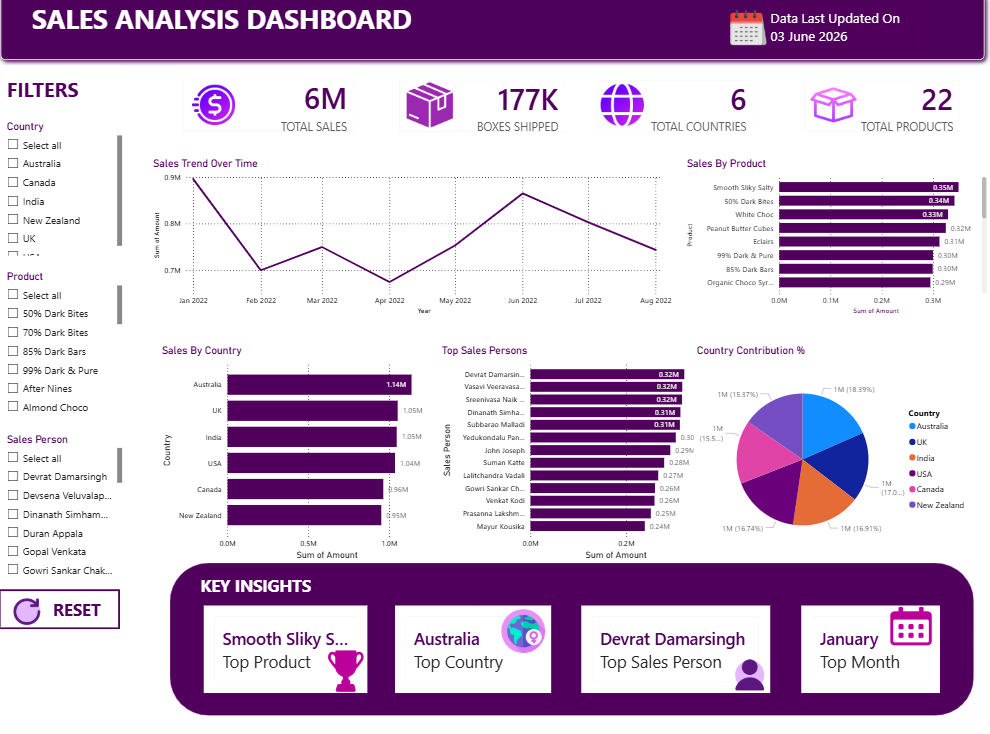

The dashboard page shown, as its layout file describes it:
{"tool":"powerbi","page":{"name":"Page 1","canvas":[1600,1200],"ordinal":0},"visuals":[{"type":"shape","box":[0,0,1600.5,124.7],"z":0},{"type":"textbox","box":[1242.6,28.2,255.4,70.4],"z":1000},{"type":"cardVisual","fields":{"Data":["Sum(data.Boxes Shipped)"]},"box":[629.4,126.7,309.7,126.7],"z":2000},{"type":"cardVisual","fields":{"Data":["Count(data.Country)"]},"box":[947.1,126.7,295.6,126.7],"z":3000},{"type":"cardVisual","fields":{"Data":["Count(data.Product)"]},"box":[1280.8,126.7,293.6,126.7],"z":4000},{"type":"cardVisual","fields":{"Data":["Sum(data.Amount)"]},"box":[281.5,124.7,317.7,128.7],"z":5000},{"type":"lineChart","title":"Sales Trend Over Time ","fields":{"Y":["Sum(data.Amount)"],"Category":["data.Date.Variation.Date Hierarchy.Year","data.Date.Variation.Date Hierarchy.Month"]},"box":[249.3,271.4,844.5,259.4],"z":6000},{"type":"clusteredBarChart","title":"Sales By Country","fields":{"Category":["data.Country"],"Y":["Sum(data.Amount)"]},"box":[263.4,573.1,450.4,351.9],"z":8000},{"type":"clusteredBarChart","title":"Top Sales Persons","fields":{"Category":["data.Sales Person"],"Y":["Sum(data.Amount)"]},"box":[713.8,573.1,450.4,351.9],"z":9000},{"type":"shape","box":[0,124.7,209.1,1075.7],"z":10000},{"type":"textbox","box":[14.1,136.7,195,52.3],"z":11000},{"type":"listSlicer","fields":{"Values":["data.Country"]},"box":[14.1,213.1,195,223.2],"z":12000},{"type":"listSlicer","fields":{"Values":["data.Product"]},"box":[14.1,454.4,195,237.3],"z":13000},{"type":"listSlicer","fields":{"Values":["data.Sales Person"]},"box":[14.1,715.8,195,239.3],"z":14000},{"type":"pieChart","title":"Country Contribution %","fields":{"Category":["data.Country"],"Y":["Sum(data.Amount)"]},"box":[1124,573.1,450.4,351.9],"z":15000},{"type":"shape","box":[281.5,924.9,1292.9,245.3],"z":15001},{"type":"cardVisual","fields":{"Data":["data.Top Product"]},"box":[335.8,993.3,263.4,140.8],"z":15002},{"type":"cardVisual","fields":{"Data":["data.Top Country"]},"box":[643.4,993.3,251.3,140.8],"z":15003},{"type":"cardVisual","fields":{"Data":["data.Top Sales Person"]},"box":[943,993.3,303.6,140.8],"z":15004},{"type":"cardVisual","fields":{"Data":["data.Top Month"]},"box":[1296.9,993.3,223.2,140.8],"z":15005},{"type":"clusteredBarChart","title":"Sales By Product","fields":{"Category":["data.Product"],"Y":["Sum(data.Amount)"]},"box":[1107.9,271.4,492.6,259.4],"z":15007},{"type":"image","box":[1164.2,34.2,94.5,58.3],"z":15008},{"type":"image","box":[281.5,150.8,140.8,74.4],"z":15009},{"type":"image","box":[629.4,150.8,140.8,74.4],"z":15010},{"type":"image","box":[939,150.8,140.8,74.4],"z":15011},{"type":"image","box":[1278.8,150.8,140.8,74.4],"z":15012},{"type":"actionButton","box":[6,967.2,195,64.3],"z":15013},{"type":"textbox","box":[88.5,977.2,92.5,50.3],"z":15014},{"type":"image","box":[498.7,1063.7,130.7,70.4],"z":15015},{"type":"image","box":[784.2,999.3,130.7,70.4],"z":15016},{"type":"image","box":[1150.1,1069.7,128.7,70.4],"z":15017},{"type":"image","box":[1409.5,991.3,128.7,70.4],"z":15018},{"type":"image","box":[14.1,971.2,74.4,64.3],"z":15019}]}

Visuals, with their boxes in screenshot pixels (x1, y1, x2, y2), scaled from the page's 1600x1200 canvas onto the 990x734 screenshot:
shape: 0:0:989:76
textbox: 769:17:927:60
cardVisual - Sum(data.Boxes Shipped): 389:77:581:155
cardVisual - Count(data.Country): 586:77:769:155
cardVisual - Count(data.Product): 792:77:974:155
cardVisual - Sum(data.Amount): 174:76:371:155
"Sales Trend Over Time " lineChart: 154:166:677:325
"Sales By Country" clusteredBarChart: 163:351:442:566
"Top Sales Persons" clusteredBarChart: 442:351:720:566
shape: 0:76:129:733
textbox: 9:84:129:116
listSlicer - data.Country: 9:130:129:267
listSlicer - data.Product: 9:278:129:423
listSlicer - data.Sales Person: 9:438:129:584
"Country Contribution %" pieChart: 695:351:974:566
shape: 174:566:974:716
cardVisual - data.Top Product: 208:608:371:694
cardVisual - data.Top Country: 398:608:554:694
cardVisual - data.Top Sales Person: 583:608:771:694
cardVisual - data.Top Month: 802:608:941:694
"Sales By Product" clusteredBarChart: 686:166:989:325
image: 720:21:779:57
image: 174:92:261:138
image: 389:92:477:138
image: 581:92:668:138
image: 791:92:878:138
actionButton: 4:592:124:631
textbox: 55:598:112:628
image: 309:651:389:694
image: 485:611:566:654
image: 712:654:791:697
image: 872:606:952:649
image: 9:594:55:633
